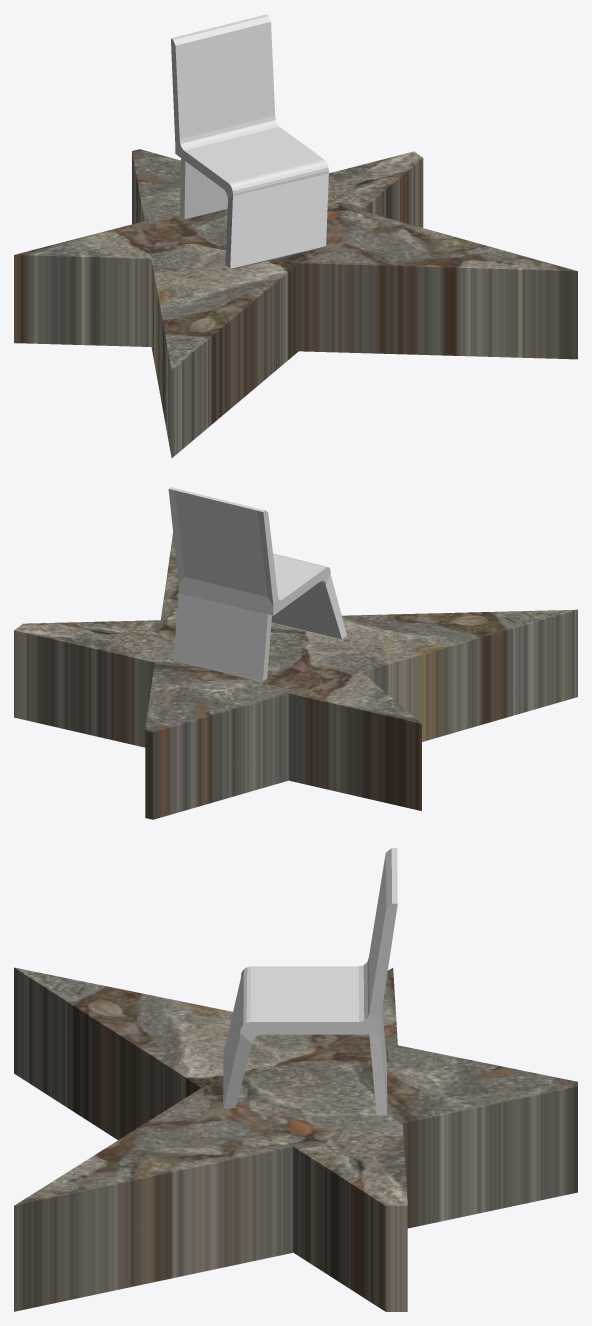
File: Chair.glb
3 views of the same model, one above another, from view 1: azimuth 30°, elevation 25°; view 2: azimuth 150°, elevation 25°; view 3: azimuth 270°, elevation 25° (orthographic). The views are drawn at different scales.
Visible parts, largest first — view 1: Cube.001, Cube; view 2: Cube.001, Cube; view 3: Cube.001, Cube.
Boxes of the visible parts, x1,y1,x2,y2 form: Cube.001: (14, 149, 577, 457); Cube: (171, 14, 328, 269); Cube.001: (14, 532, 577, 819); Cube: (168, 487, 346, 681); Cube.001: (14, 967, 577, 1311); Cube: (223, 848, 397, 1115).
Size of the model in its own units: 2.19 by 1.36 by 2.19.
Materials: 2 (1 with a texture image).
